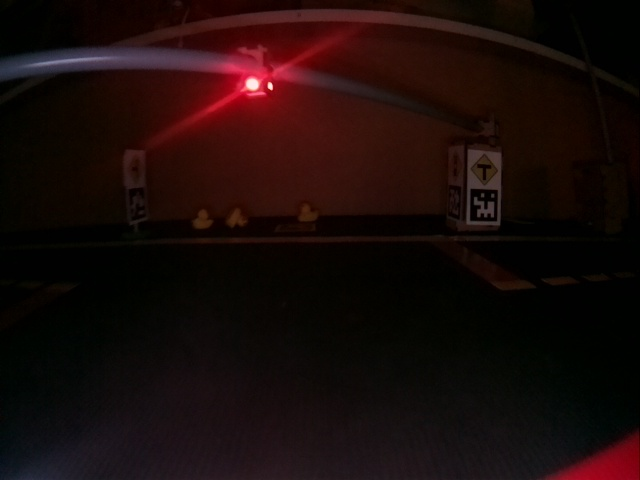Duckie: (225, 207, 248, 228), (297, 204, 319, 222), (193, 212, 213, 228)
Intersection sign: (469, 154, 499, 186), (123, 149, 144, 184)
QR code: (471, 192, 498, 222), (446, 184, 464, 222), (128, 187, 146, 221), (275, 223, 315, 232)
Signal sign: (448, 150, 463, 183)
Traffic light: (238, 49, 274, 98)
